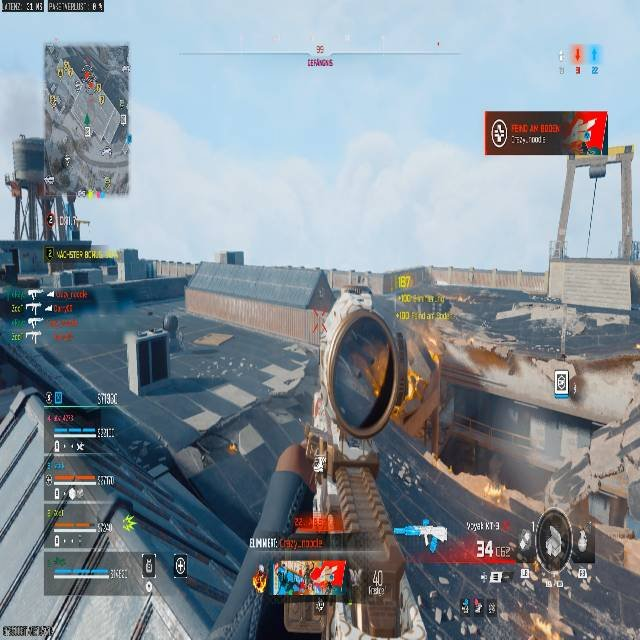head: (320, 317, 441, 432)
player: (302, 299, 445, 638)
